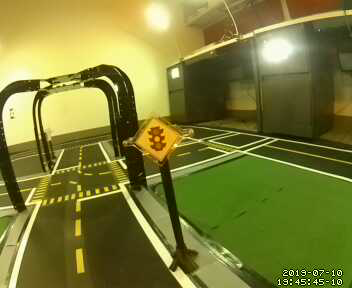Traffic light sign: (131, 114, 183, 166)
